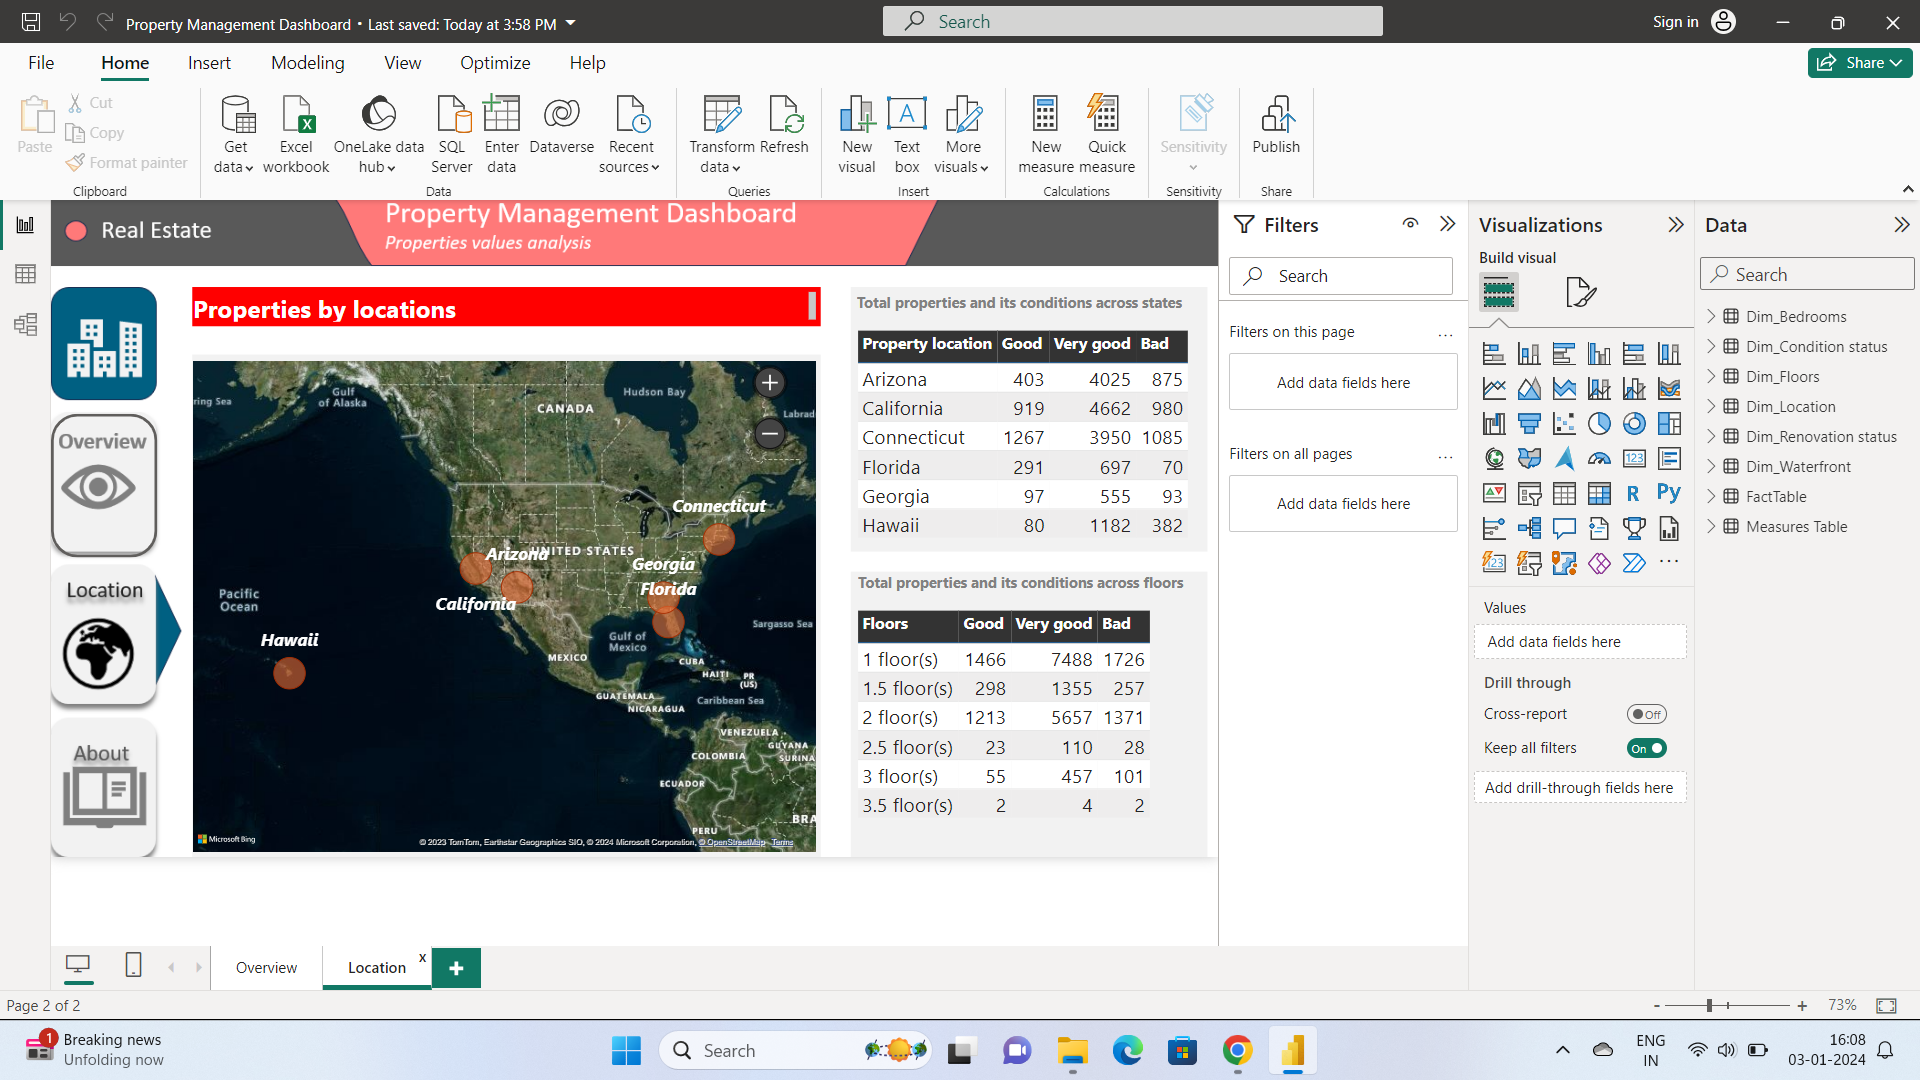

What the dashboard file says about the page in this screenshot:
{"tool":"powerbi","page":{"name":"Location","canvas":[1280,720],"ordinal":1},"visuals":[{"type":"textbox","box":[150.9,96.1,693,42.5],"z":0},{"type":"map","fields":{"Category":["Dim_Location.Property location"]},"box":[150.9,171.5,693,548.9],"z":1000},{"type":"textbox","box":[878.6,96,387.9,42.5],"z":2000},{"type":"tableEx","fields":{"Values":["Dim_Location.Property location","Measures Table.Good","Measures Table.Very good","Measures Table.Bad"]},"box":[878.6,138.4,387.9,244],"z":3000},{"type":"textbox","box":[880,403,387.9,42.5],"z":4000},{"type":"tableEx","fields":{"Values":["Dim_Floors.Floors","Measures Table.Good","Measures Table.Very good","Measures Table.Bad"]},"box":[878.6,445.5,387.9,274.1],"z":5000},{"type":"actionButton","box":[0,234.4,116.5,157.6],"z":5001}]}

Visuals, with their boxes on the page's 1280x720 design canvas (x1, y1, x2, y2). These are canvas units, not pixel positions in the 1920x1080 screenshot, which may show the page scaled, cropped or inside an application window:
textbox: Rect(151, 96, 844, 139)
map - Dim_Location.Property location: Rect(151, 172, 844, 720)
textbox: Rect(879, 96, 1266, 138)
tableEx - Dim_Location.Property location x Measures Table.Good: Rect(879, 138, 1266, 382)
textbox: Rect(880, 403, 1268, 446)
tableEx - Dim_Floors.Floors x Measures Table.Good: Rect(879, 446, 1266, 720)
actionButton: Rect(0, 234, 116, 392)
